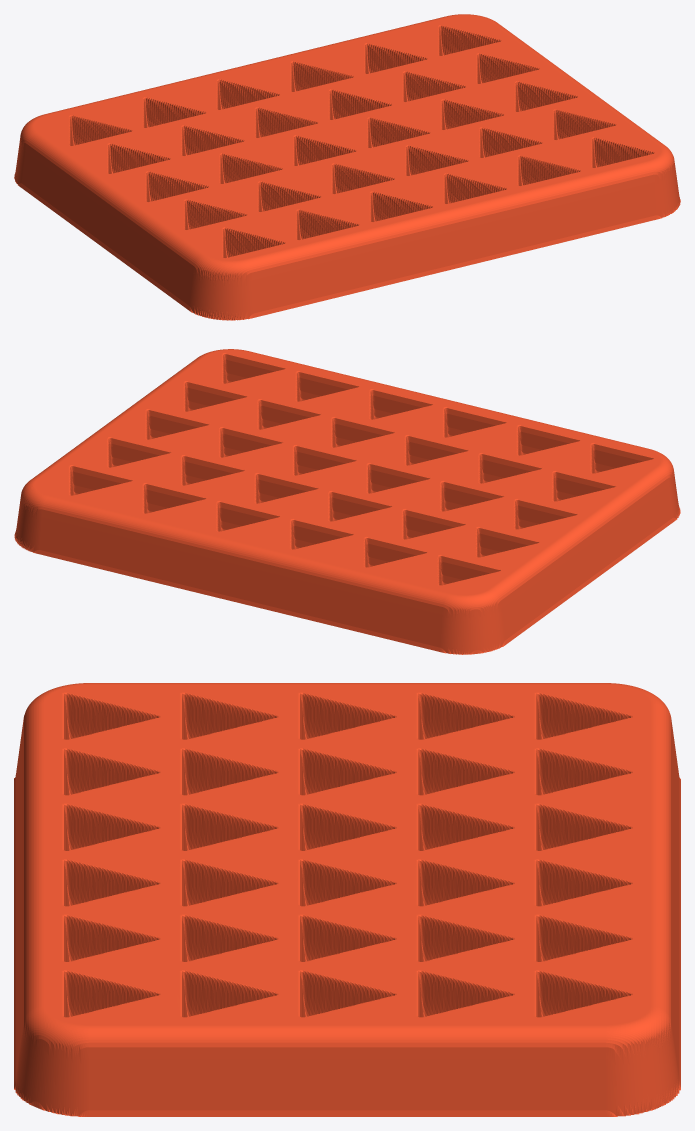
The model's file is mold.glb.
3 views of the same model, one above another, from view 1: azimuth 30°, elevation 25°; view 2: azimuth 150°, elevation 25°; view 3: azimuth 270°, elevation 25° (orthographic). The views are drawn at different scales.
Parts seen in each view (by area): view 1: geometry_0; view 2: geometry_0; view 3: geometry_0.
Boxes of the visible parts, x1,y1,x2,y2 form: geometry_0: [14, 14, 680, 320]; geometry_0: [14, 349, 680, 654]; geometry_0: [14, 683, 680, 1116].
Bounding box in the file's own units: 0.104 × 0.0105 × 0.0802.
